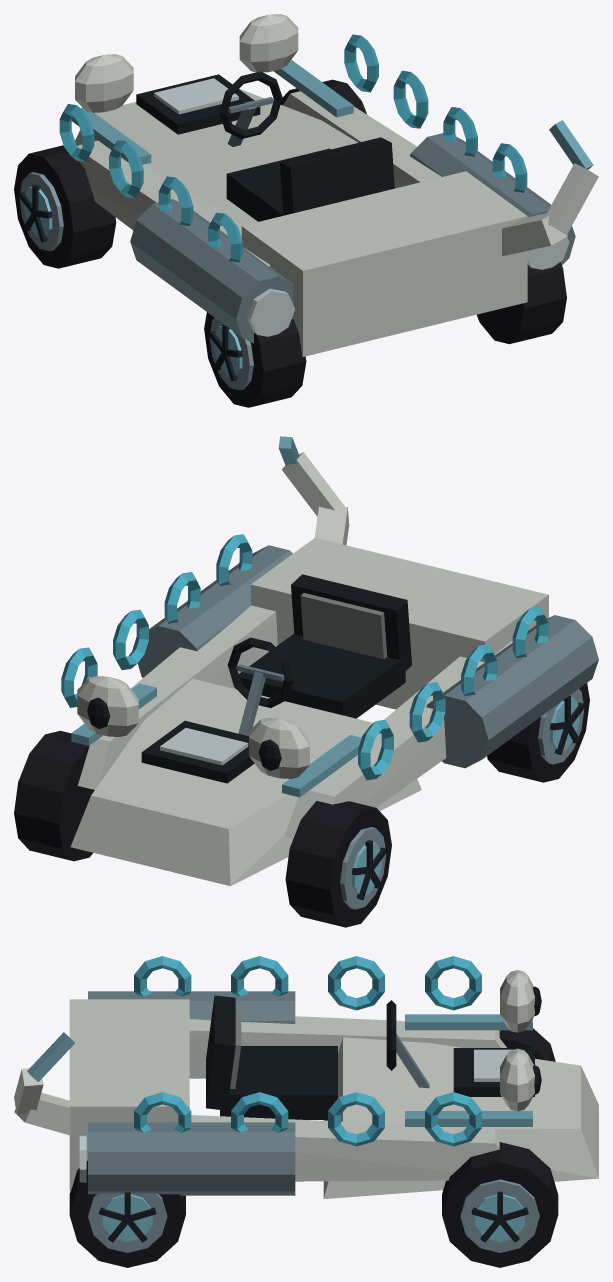
File: kart.glb
3 views of the same model, one above another, from view 1: azimuth 30°, elevation 25°; view 2: azimuth 150°, elevation 25°; view 3: azimuth 270°, elevation 25° (orthographic). The views are drawn at different scales.
Parts seen in each view (by area): view 1: identity-lab-pod-lab-pod-segmented-shell, identity-lab-pod-driver-cockpit, identity-lab-pod-motif-water, wheel-front-left, wheel-rear-left, identity-lab-pod-motif-eyes, identity-lab-pod-motif-tail, wheel-rear-right, wheel-front-right; view 2: identity-lab-pod-lab-pod-segmented-shell, identity-lab-pod-driver-cockpit, wheel-front-left, identity-lab-pod-motif-water, wheel-front-right, identity-lab-pod-motif-eyes, wheel-rear-left, identity-lab-pod-motif-tail; view 3: identity-lab-pod-lab-pod-segmented-shell, identity-lab-pod-motif-water, identity-lab-pod-driver-cockpit, wheel-front-right, wheel-rear-right, identity-lab-pod-motif-eyes, identity-lab-pod-motif-tail, wheel-front-left.
Boxes of the visible parts, x1,y1,x2,y2 form: identity-lab-pod-lab-pod-segmented-shell: (71,60,575,356); identity-lab-pod-driver-cockpit: (219,71,394,221); identity-lab-pod-motif-water: (59,34,527,262); wheel-front-left: (14,144,116,268); wheel-rear-left: (204,312,306,407); identity-lab-pod-motif-eyes: (75,14,298,112); identity-lab-pod-motif-tail: (502,120,598,256); wheel-rear-right: (477,262,566,344); wheel-front-right: (280,79,366,114); identity-lab-pod-lab-pod-segmented-shell: (70,538,598,886); identity-lab-pod-driver-cockpit: (227,574,411,736); wheel-front-left: (285,800,391,927); identity-lab-pod-motif-water: (61,534,548,780); wheel-front-right: (14,730,94,861); identity-lab-pod-motif-eyes: (77,676,309,778); wheel-rear-left: (487,683,589,782); identity-lab-pod-motif-tail: (278,436,349,545); identity-lab-pod-lab-pod-segmented-shell: (69,991,598,1198); identity-lab-pod-motif-water: (134,956,481,1146); identity-lab-pod-driver-cockpit: (206,995,429,1119); wheel-front-right: (442,1142,558,1267); wheel-rear-right: (69,1160,185,1267); identity-lab-pod-motif-eyes: (500,970,541,1111); identity-lab-pod-motif-tail: (14,1032,74,1135); wheel-front-left: (499,1028,555,1061).
Bounding box in the file's own units: 1.98 × 1.3 × 3.02.
